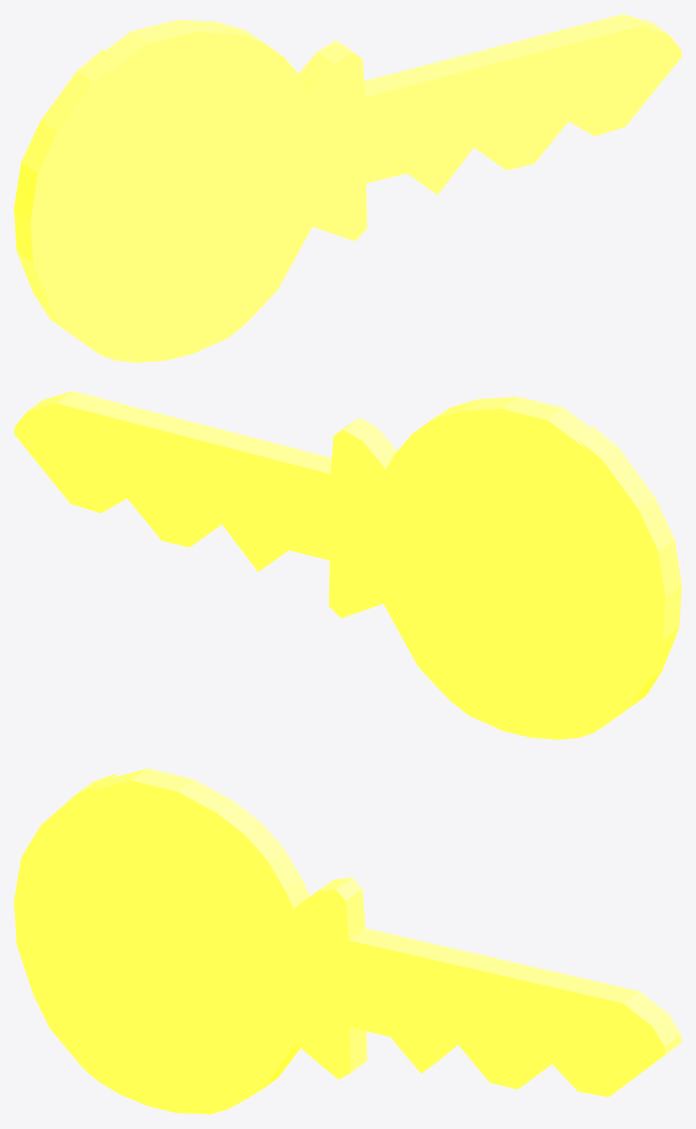
Rendered from key.fbx.
The picture shows the model from 3 angles, top to bottom: view 1: azimuth 30°, elevation 25°; view 2: azimuth 150°, elevation 25°; view 3: azimuth 330°, elevation 25°; orthographic projection.
Visible parts, largest first — view 1: polySurface1; view 2: polySurface1; view 3: polySurface1.
Part boxes in pixels (x1=…): polySurface1: x1=14, y1=14, x2=681, y2=362; polySurface1: x1=14, y1=391, x2=681, y2=739; polySurface1: x1=14, y1=768, x2=681, y2=1114.
Bounding box in the file's own units: 0.4198 × 0.1981 × 0.0185.
